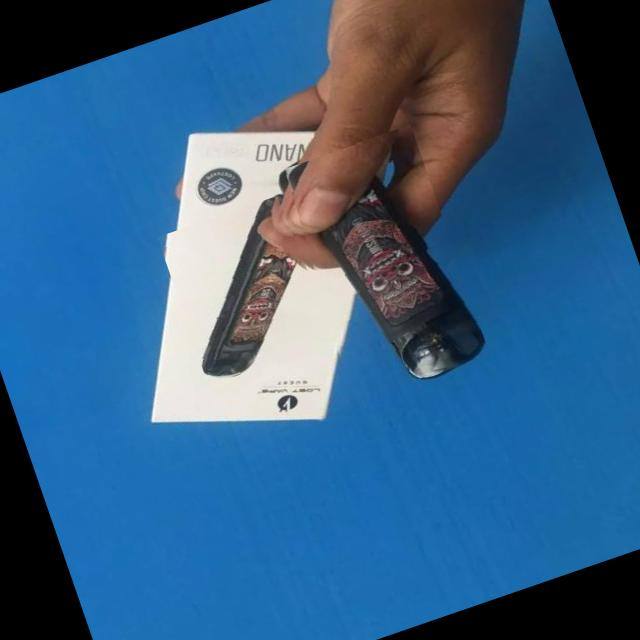Hazard: (273, 123, 488, 400), (155, 192, 336, 386)
